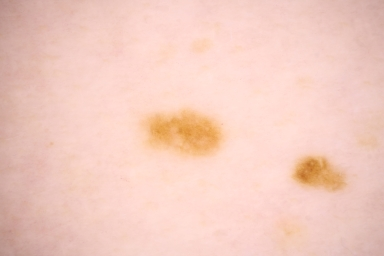melanoma: (153, 111, 218, 154), (293, 157, 345, 190)
